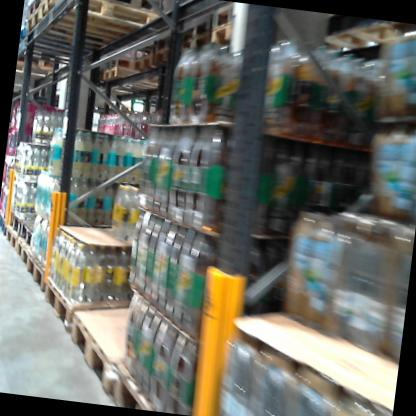pallet: (64, 291, 201, 410), (40, 271, 151, 344), (25, 5, 135, 58), (38, 0, 174, 42), (112, 355, 182, 413), (205, 17, 275, 75), (128, 50, 197, 88), (99, 66, 174, 100), (40, 0, 167, 18), (208, 0, 262, 39), (170, 4, 215, 45), (98, 52, 166, 78), (15, 57, 69, 88), (23, 254, 55, 302), (18, 218, 57, 256), (149, 39, 184, 76), (177, 28, 210, 62), (14, 234, 33, 274), (6, 209, 27, 237), (0, 222, 19, 250), (25, 0, 41, 12), (0, 209, 6, 233)
